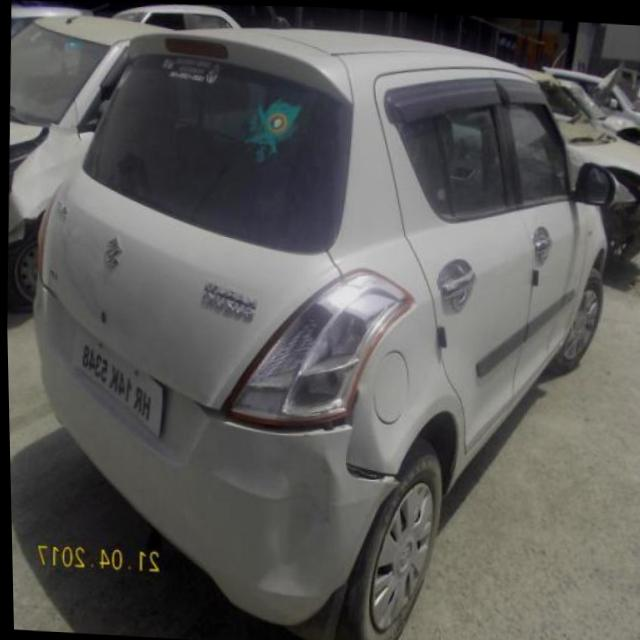Car-Damage: (251, 448, 339, 599), (209, 376, 359, 443), (336, 386, 403, 492), (341, 457, 398, 487)
